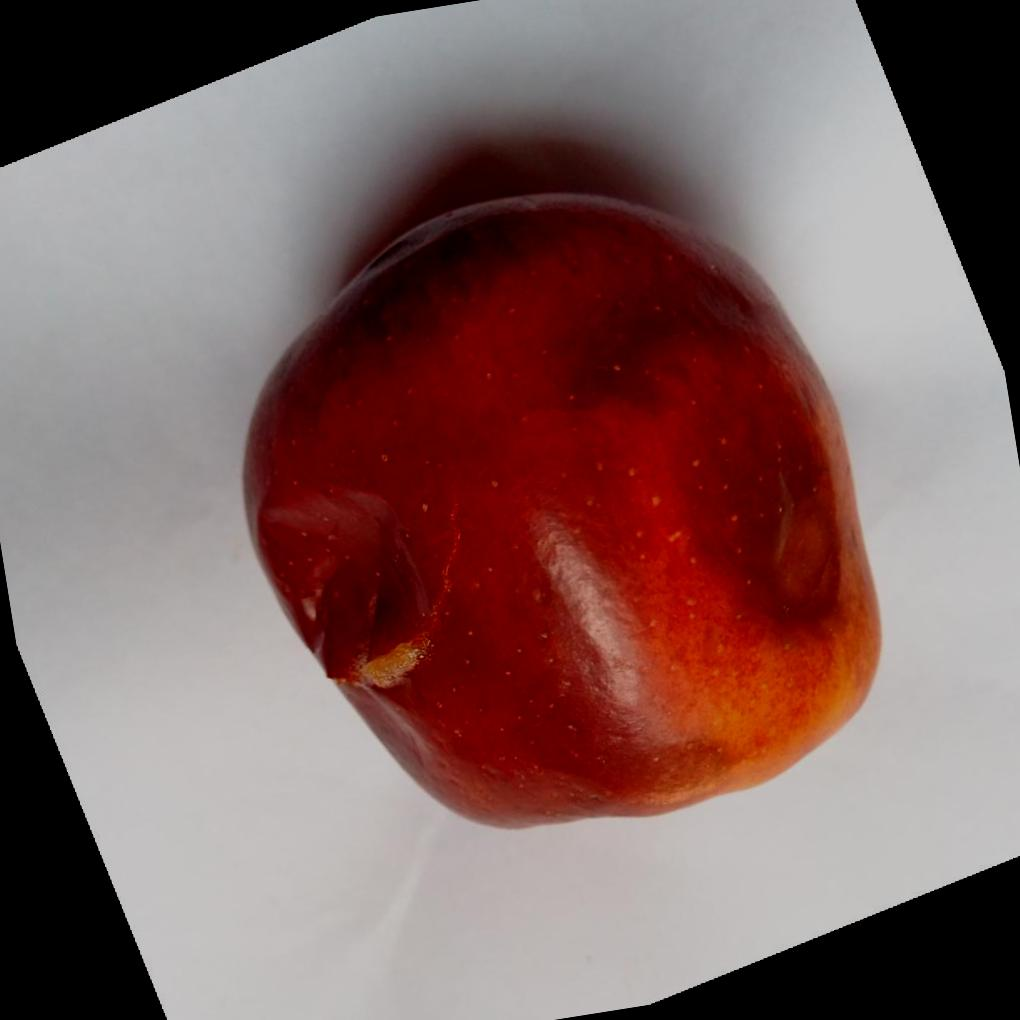FreshOrange: (238, 184, 882, 827)
